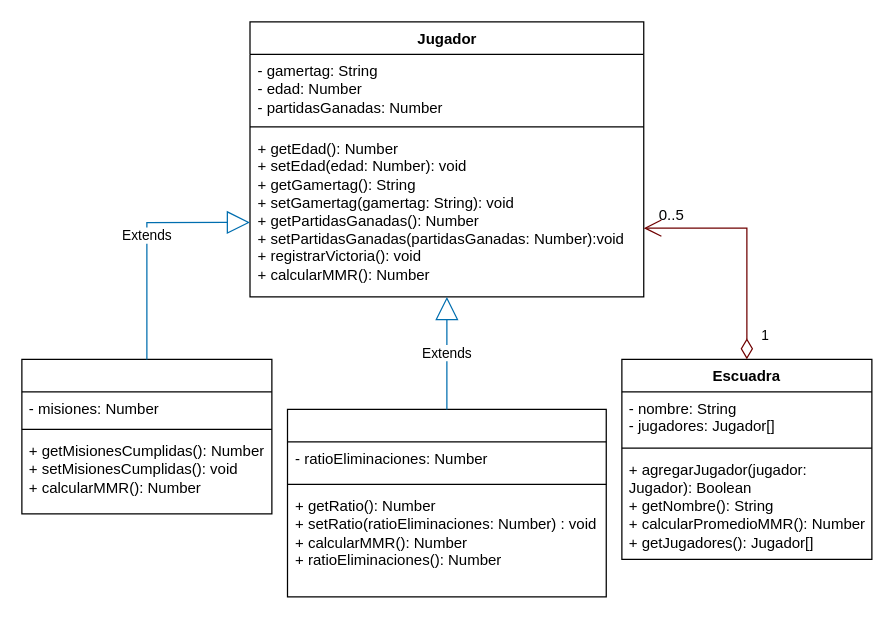
Image size: 894x623. Some labels were removed from this diagram. Here are the shapes that lost their labels. From the top down, the box of each, then its label:
(21, 358, 272, 514): JugadorEstrategia
(286, 408, 606, 597): JugadorAccion
